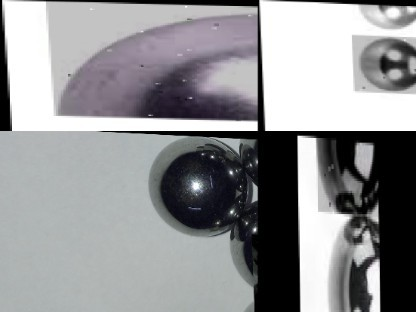ironball: (43, 0, 257, 120), (142, 133, 249, 232), (327, 208, 379, 312), (315, 136, 378, 215), (349, 33, 415, 93), (226, 197, 259, 285), (344, 2, 415, 31)
